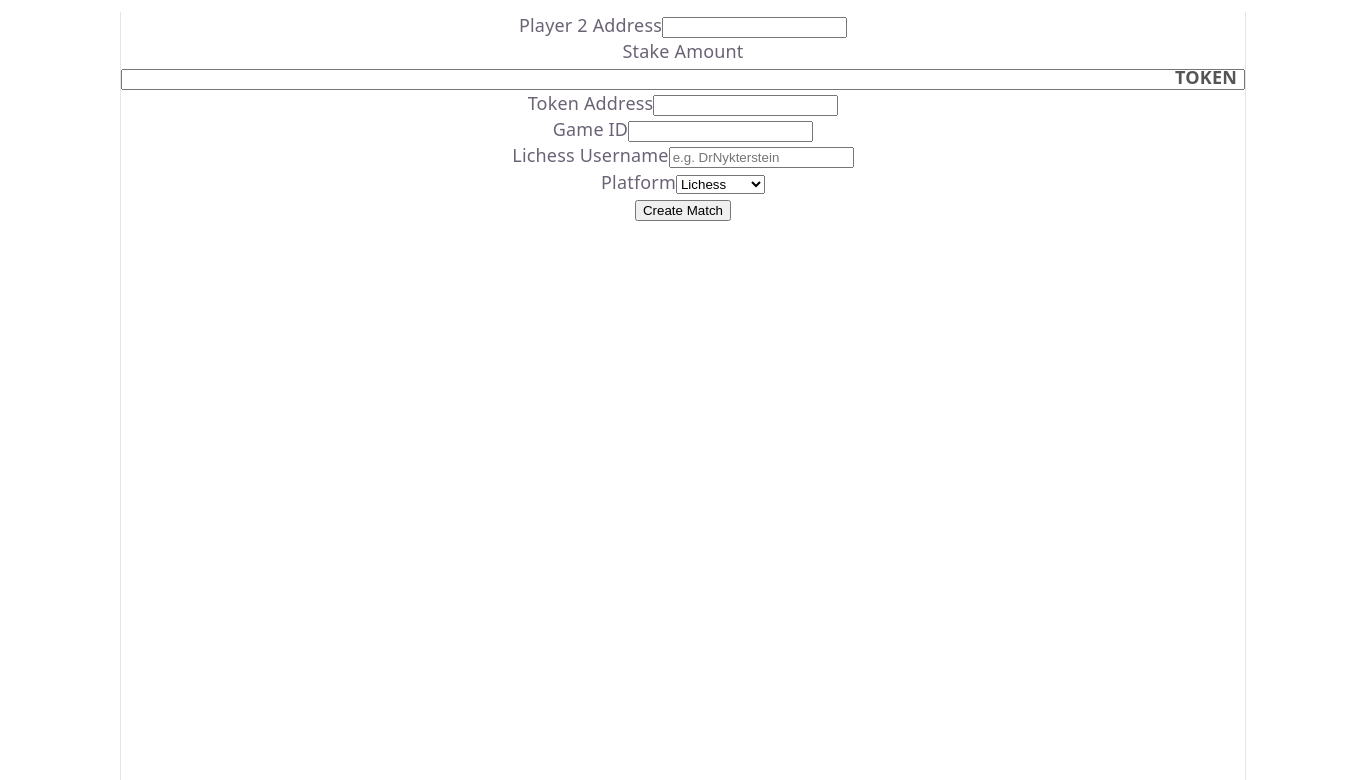
it: CreateMatchForm › shows error for invalid chess.com game ID and blocks submit
Type "GBOB" into the field labelled "Player 2 Address" at (754, 28), box [662,17,847,38]
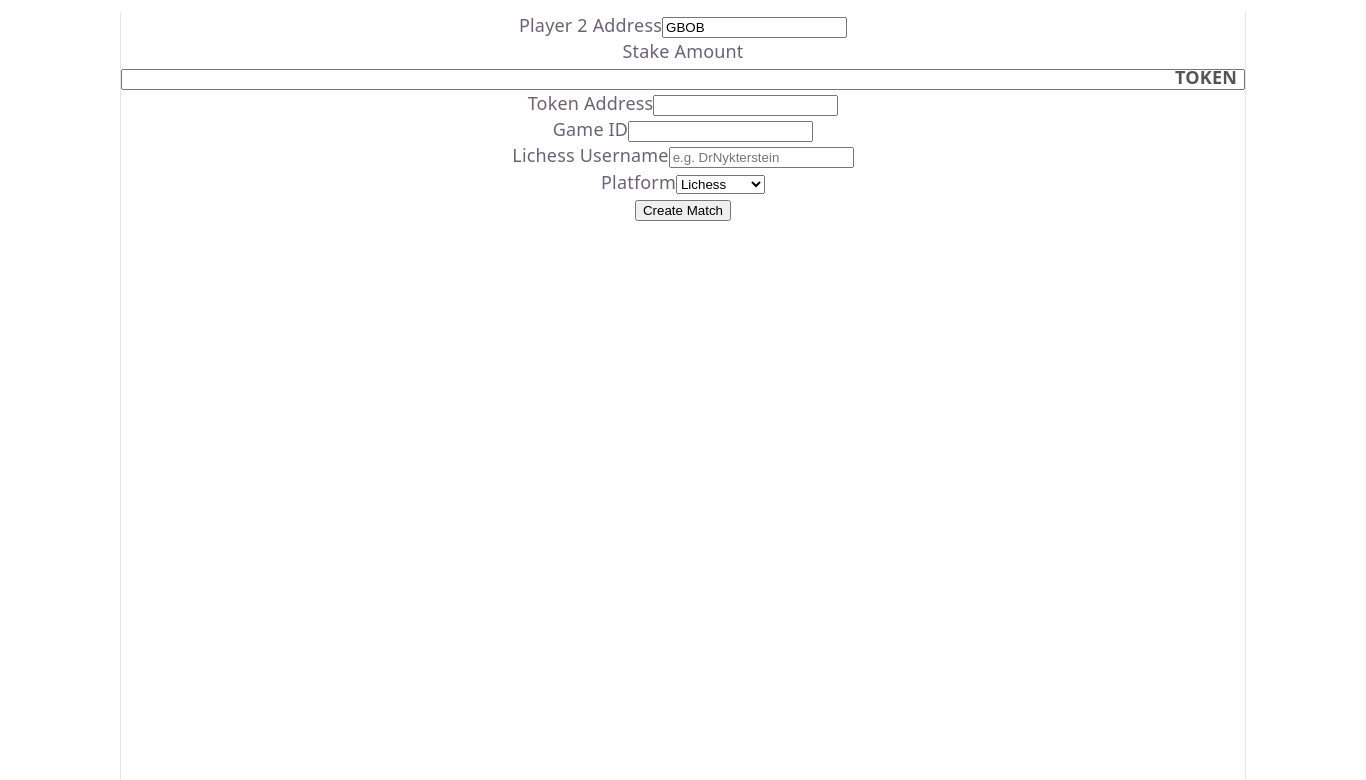
Type "10" into the field labelled "Stake Amount" at (683, 80), box [121,69,1245,90]
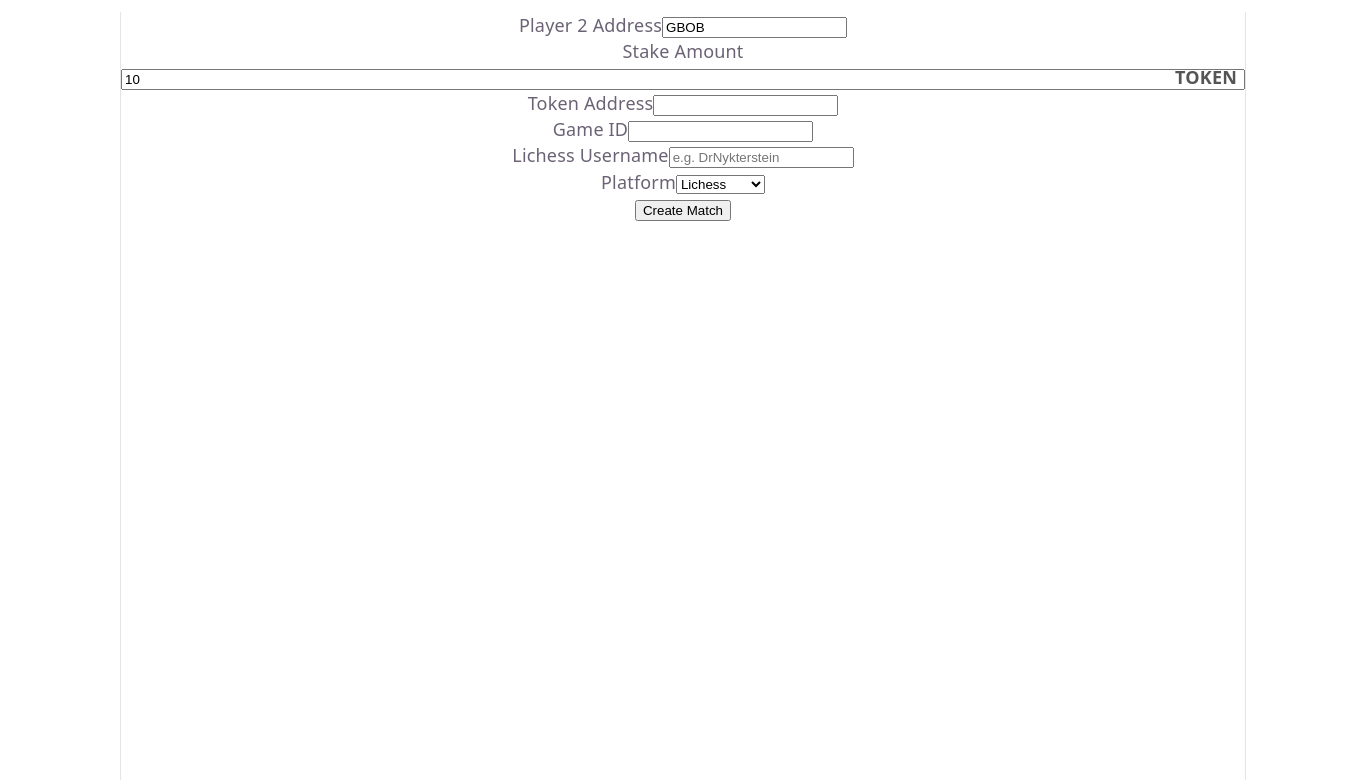
Type "GTOK" into the field labelled "Token Address" at (746, 106), box [653,95,838,116]
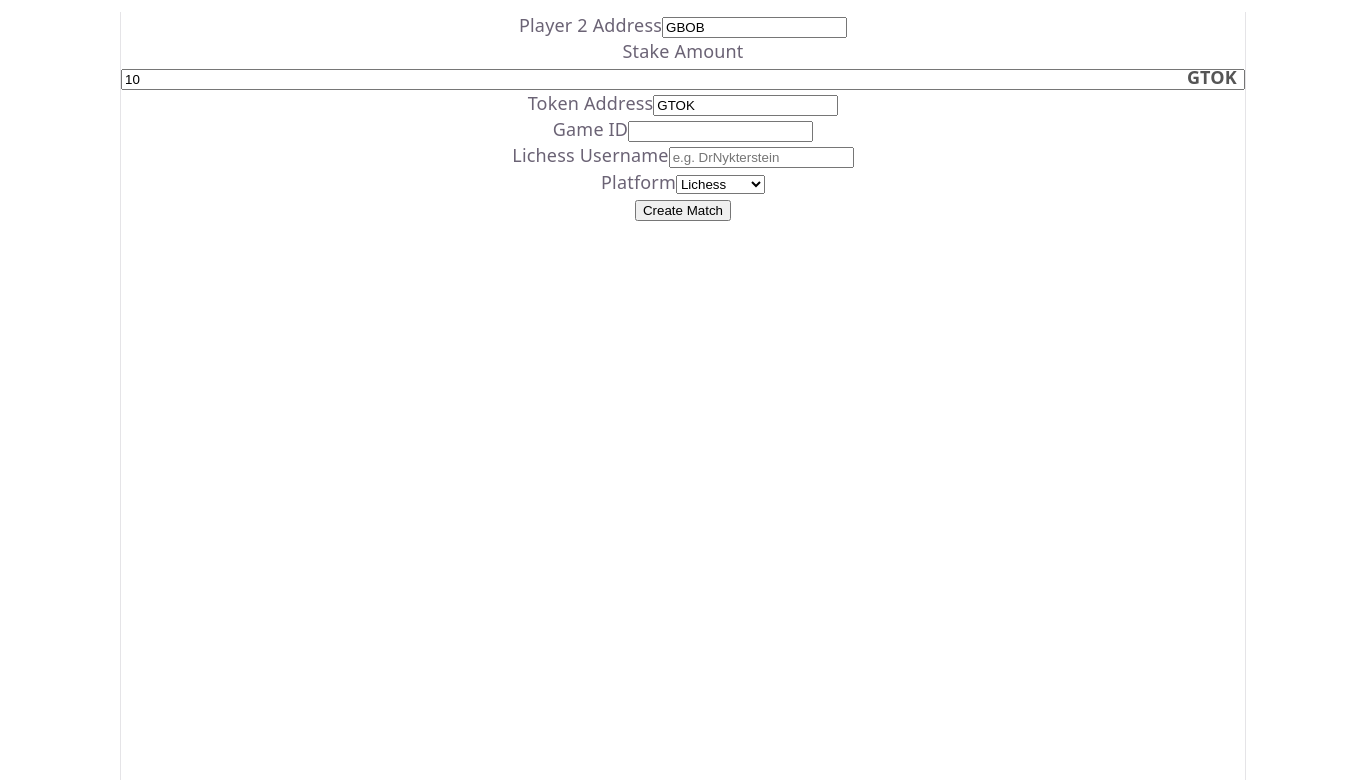
Select "Chess.com" in the dropdown labelled "Platform" at (720, 184), box [676,175,765,194]
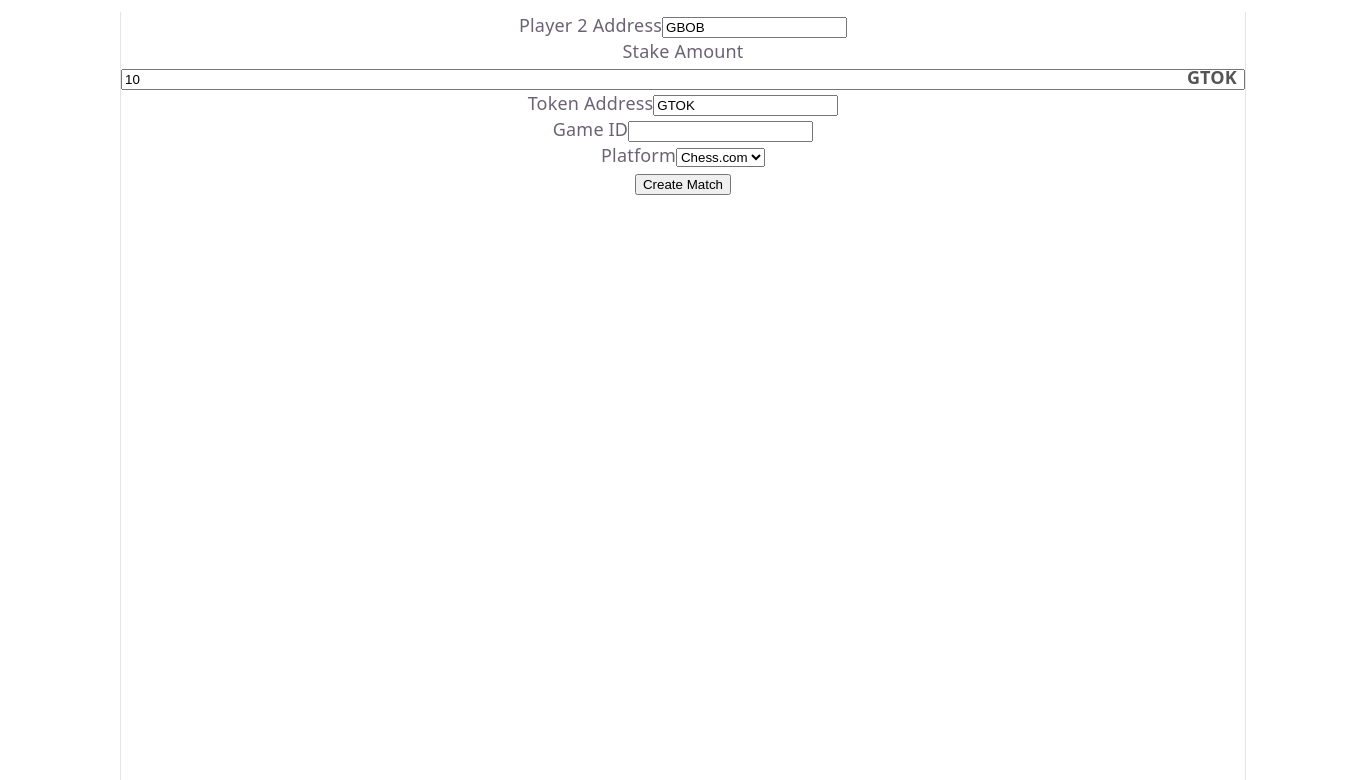
Type "short" into the field labelled "Game ID" at (721, 132), box [628,121,813,142]
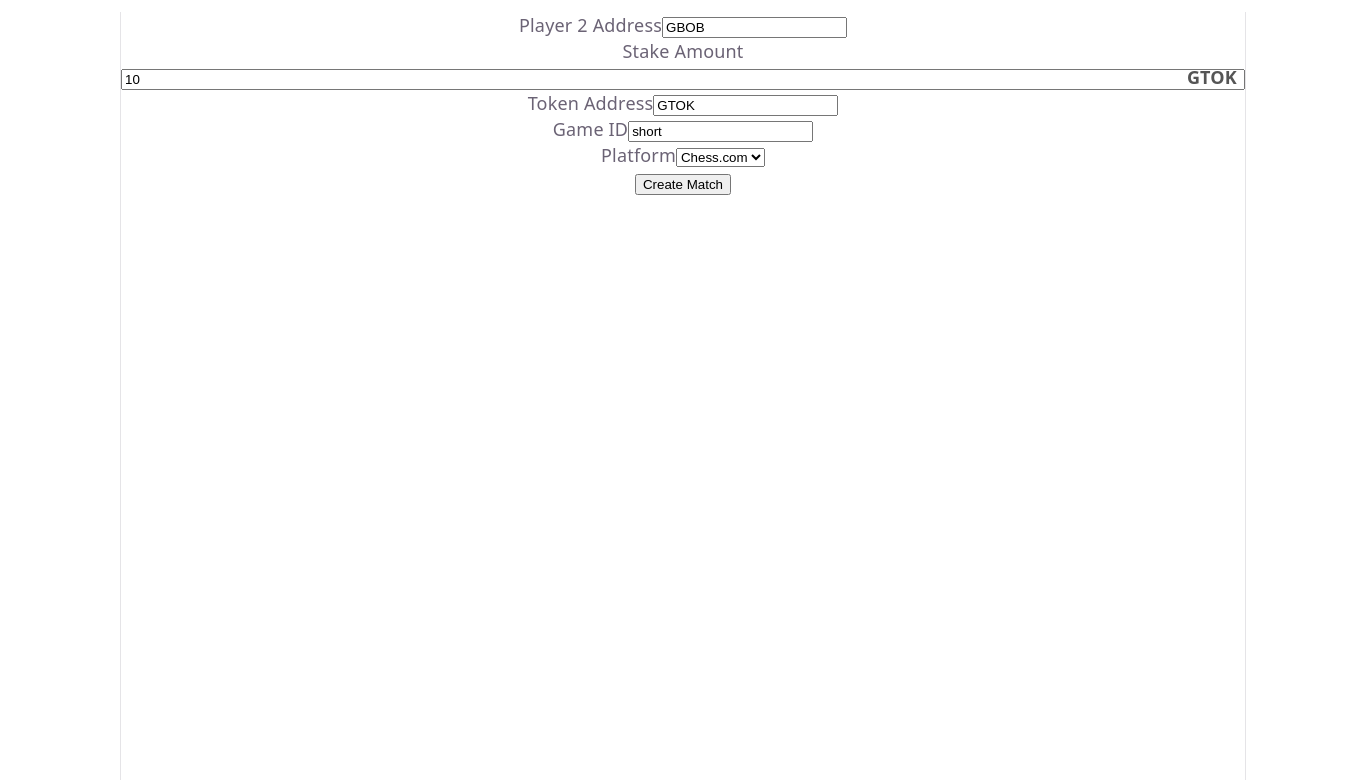
Click the button "Create Match" at (683, 184), box [635,174,731,195]
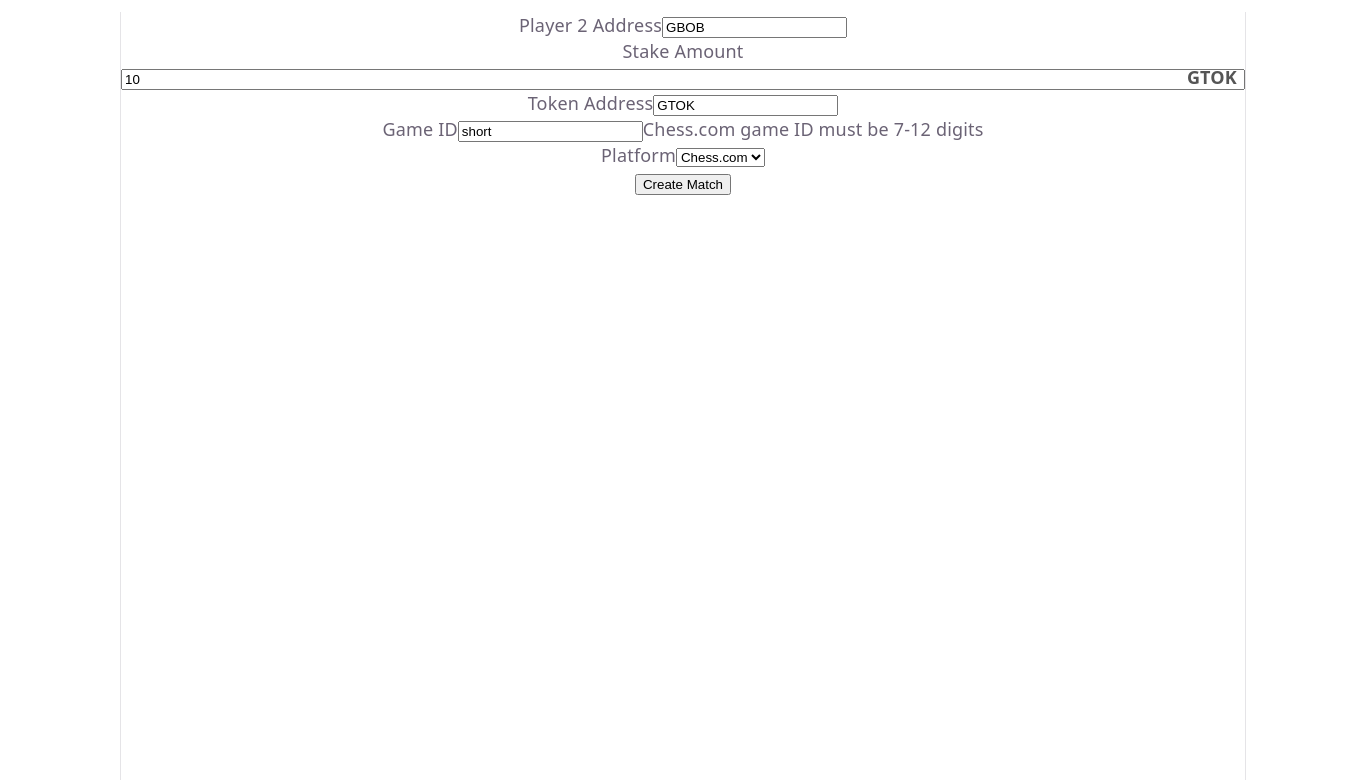
Expected: the text "Chess.com game ID must be 7-12 digits" is shown, [643,117,984,141]
